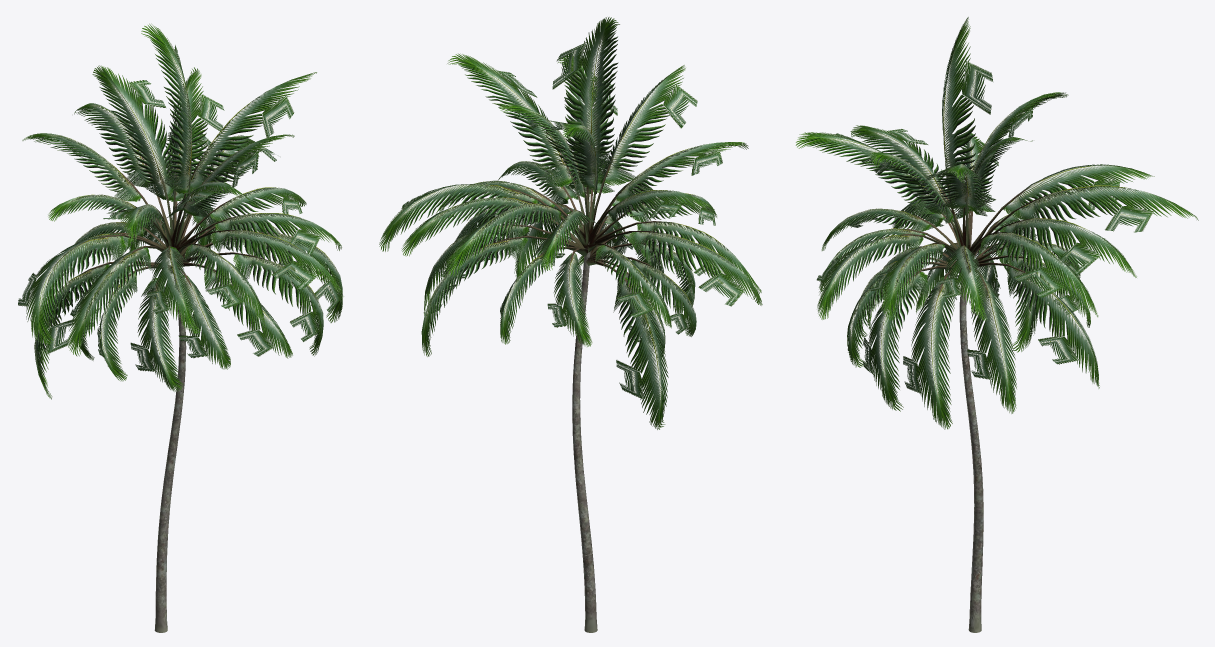
Rendered from palm-c.glb.
The picture shows the model from 3 angles, left to right: view 1: azimuth 30°, elevation 25°; view 2: azimuth 150°, elevation 25°; view 3: azimuth 270°, elevation 25°; orthographic projection.
Parts seen in each view (by area): view 1: palm-c; view 2: palm-c; view 3: palm-c.
Part boxes in pixels (bbox=[...]): palm-c: bbox=[18, 23, 343, 632]; palm-c: bbox=[379, 17, 762, 632]; palm-c: bbox=[795, 17, 1198, 632].
Bounding box in the file's own units: 2.84 × 5.3 × 3.21.
2 materials, 2 textured.
